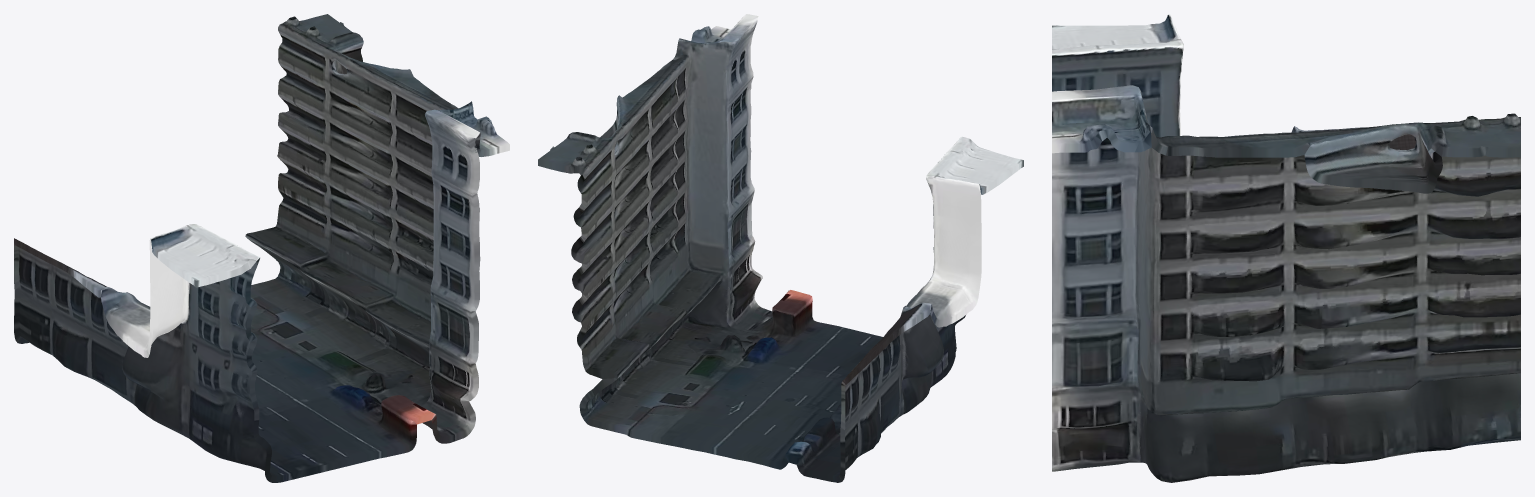
File: z20-167754-405242-h0-yup-uvflip-v3-world.glb
3 renders of one model, left to right at view 1: azimuth 30°, elevation 25°; view 2: azimuth 150°, elevation 25°; view 3: azimuth 270°, elevation 25°, orthographic. The views are drawn at different scales.
Size of the model in its own units: 30.16 by 28 by 30.32.
1 material, 1 textured.
